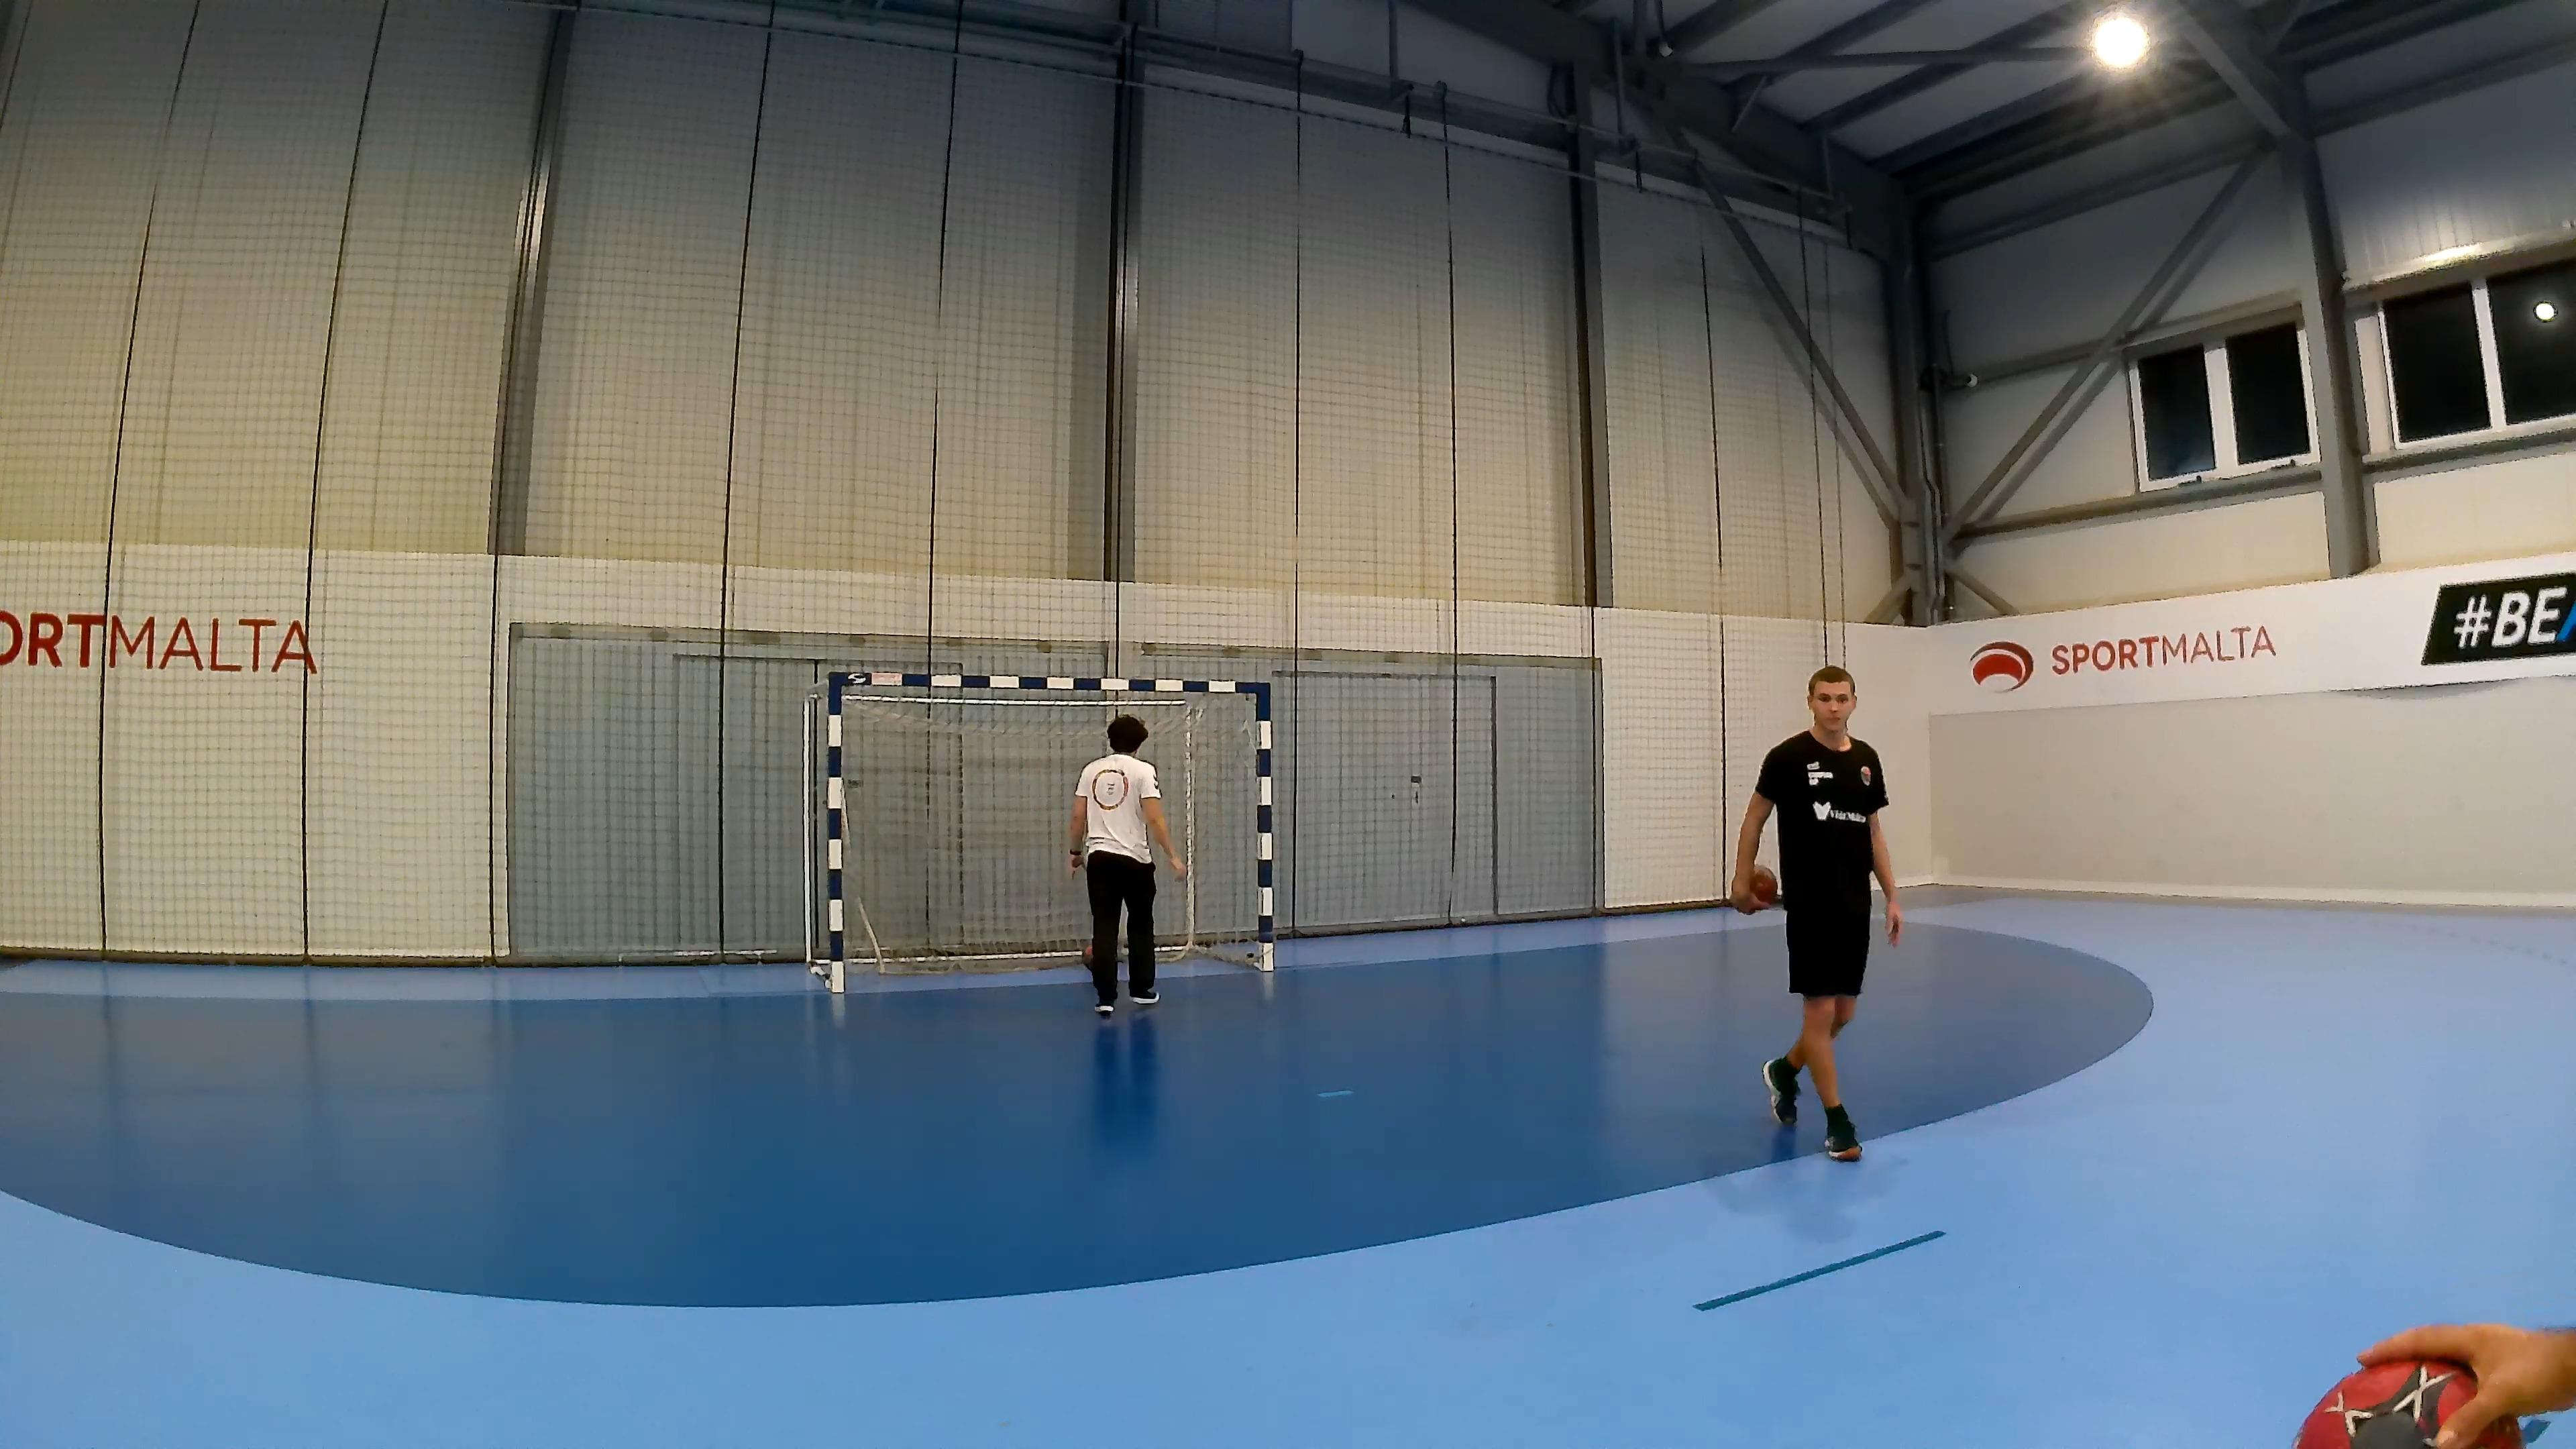handball: (2272, 1346, 2526, 1449), (1729, 862, 1782, 915)
